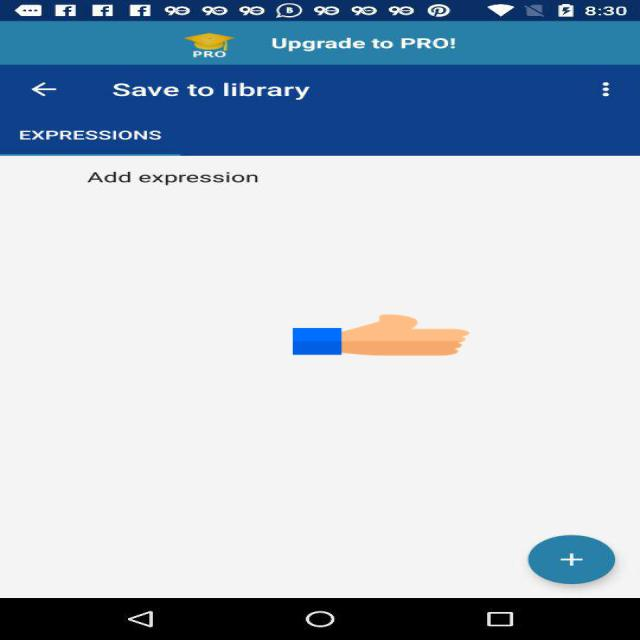privacy zuckering: (293, 313, 469, 357)
